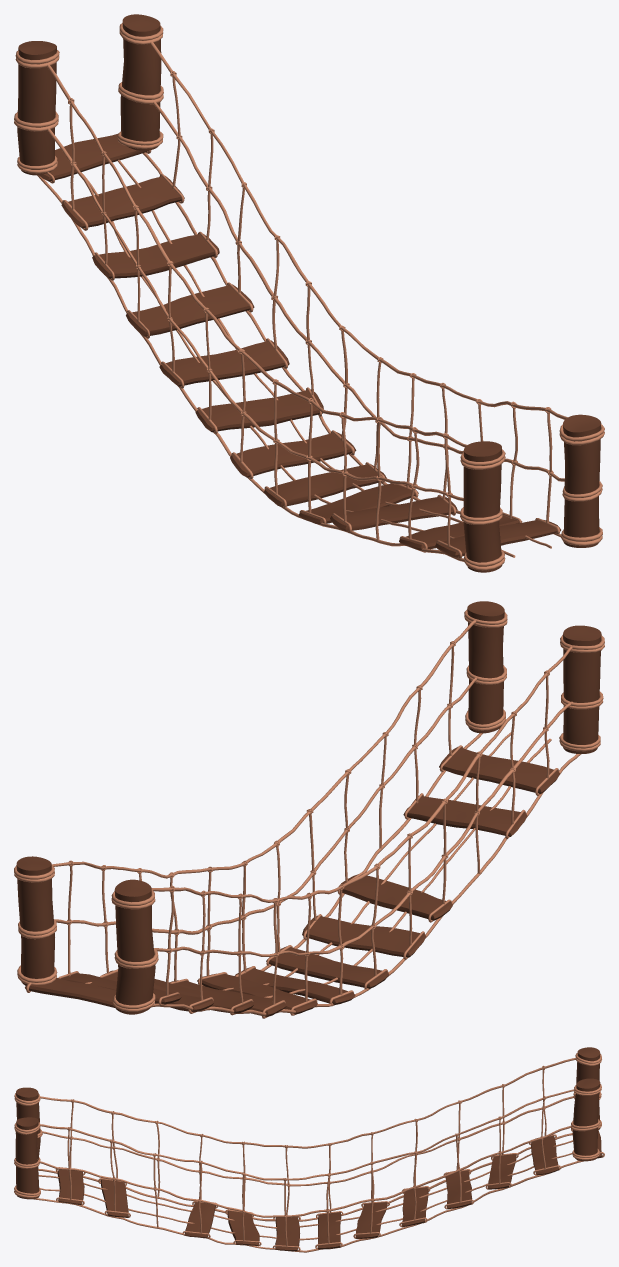
Rendered from Capstone_Bridge.fbx.
3 renders of one model, top to bottom at view 1: azimuth 30°, elevation 25°; view 2: azimuth 150°, elevation 25°; view 3: azimuth 270°, elevation 25°, orthographic. The views are drawn at different scales.
Parts seen in each view (by area): view 1: Bridge Curve; view 2: Bridge Curve; view 3: Bridge Curve.
Part boxes in pixels (box(x1,y1,x2,y2)): Bridge Curve: box(14, 14, 604, 572); Bridge Curve: box(14, 601, 604, 1018); Bridge Curve: box(14, 1047, 604, 1252).
Bounding box in the file's own units: 132 × 235 × 731.
